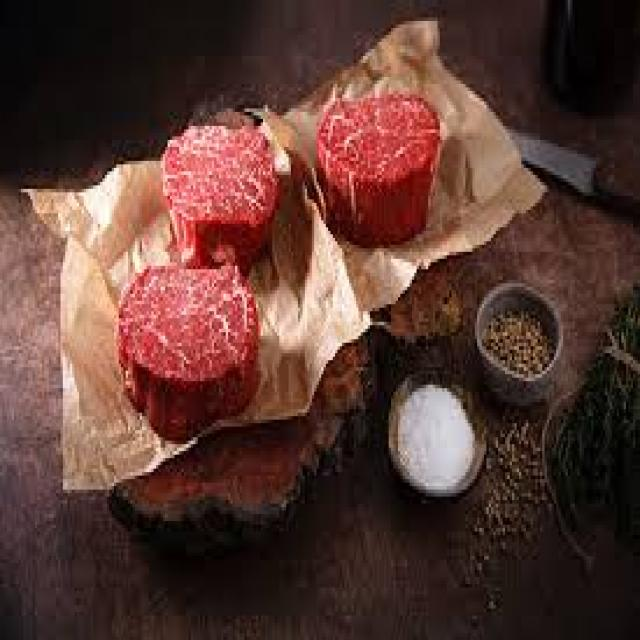Beef: (119, 266, 261, 442), (317, 94, 442, 245), (163, 126, 282, 273)
